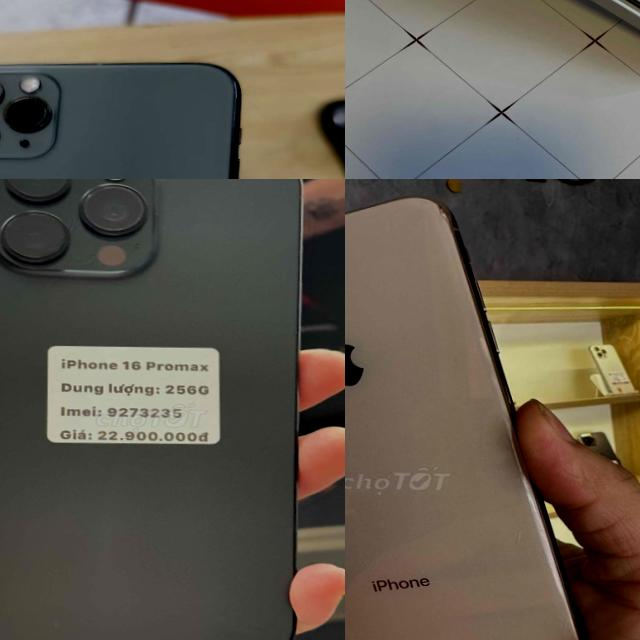gen_11: (0, 51, 246, 179)
gen_14: (467, 0, 640, 64)
gen_16: (0, 179, 300, 640)
gen_x_xs: (345, 198, 580, 640)
physical_damage: (416, 202, 459, 226)
